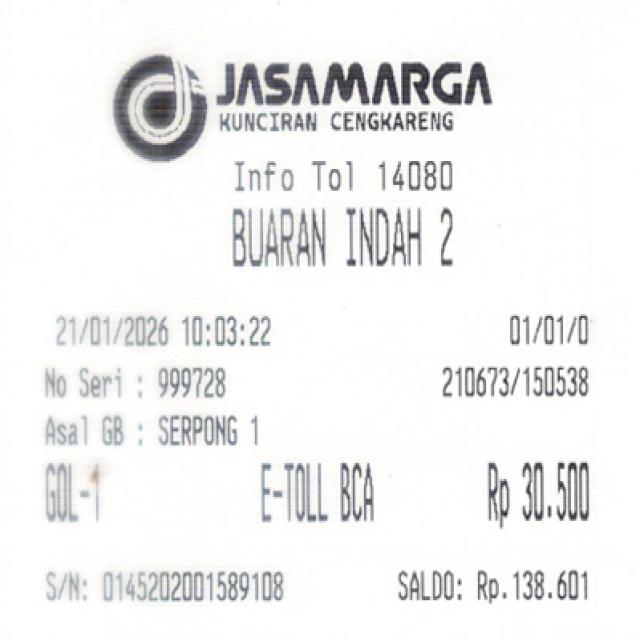date: (57, 308, 272, 357)
store: (194, 51, 496, 137)
total: (478, 462, 597, 527)
